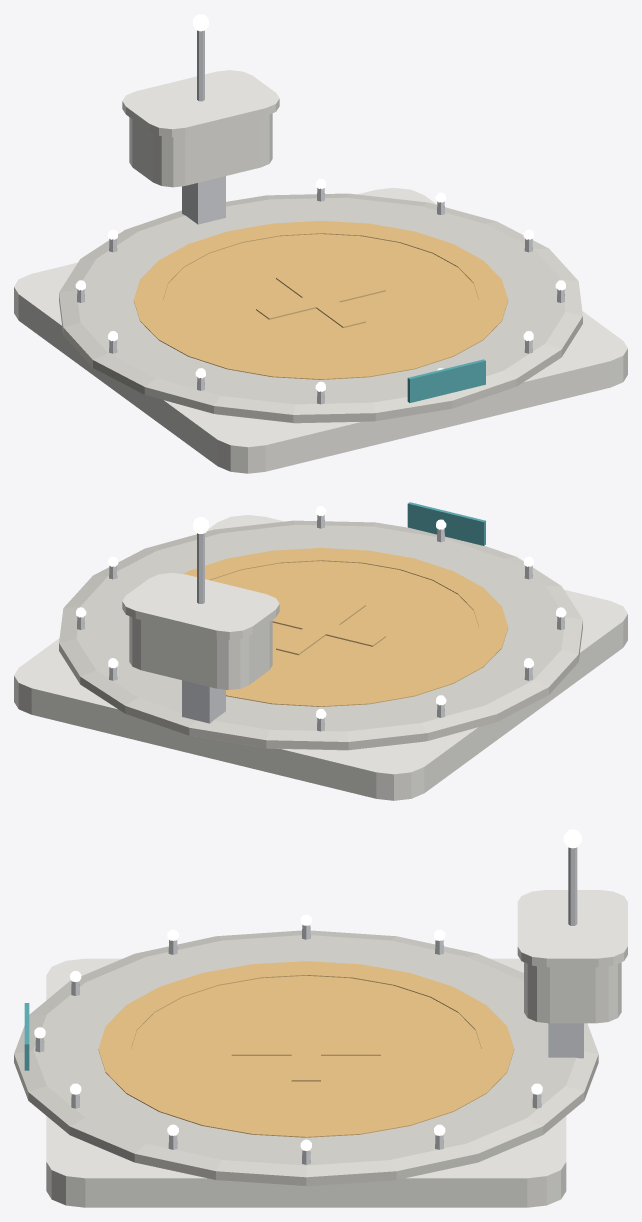
Rendered from arcology-towers-and-skyways-crown-landing-deck-577847f1__23247.glb.
3 renders of one model, top to bottom at view 1: azimuth 30°, elevation 25°; view 2: azimuth 150°, elevation 25°; view 3: azimuth 270°, elevation 25°, orthographic. The views are drawn at different scales.
Visible parts, largest first — view 1: crown-landing-deck; view 2: crown-landing-deck; view 3: crown-landing-deck.
Boxes of the visible parts, x1,y1,x2,y2 form: crown-landing-deck: (14, 14, 627, 473); crown-landing-deck: (14, 502, 627, 800); crown-landing-deck: (14, 829, 627, 1207).
Bounding box in the file's own units: 18 × 9.1 × 18.9.
